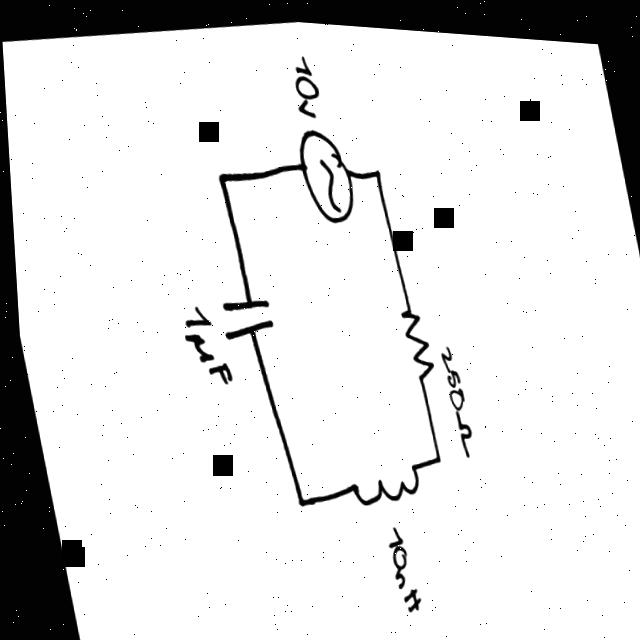capacitor: (210, 285, 278, 347)
inductor: (340, 452, 418, 506)
junction: (280, 480, 308, 512), (363, 153, 388, 188), (206, 160, 232, 193), (423, 442, 441, 466)
resistor: (391, 294, 435, 382)
source: (292, 120, 357, 227)
text: (432, 338, 474, 453), (175, 302, 229, 388), (375, 517, 418, 611), (279, 45, 325, 121)
